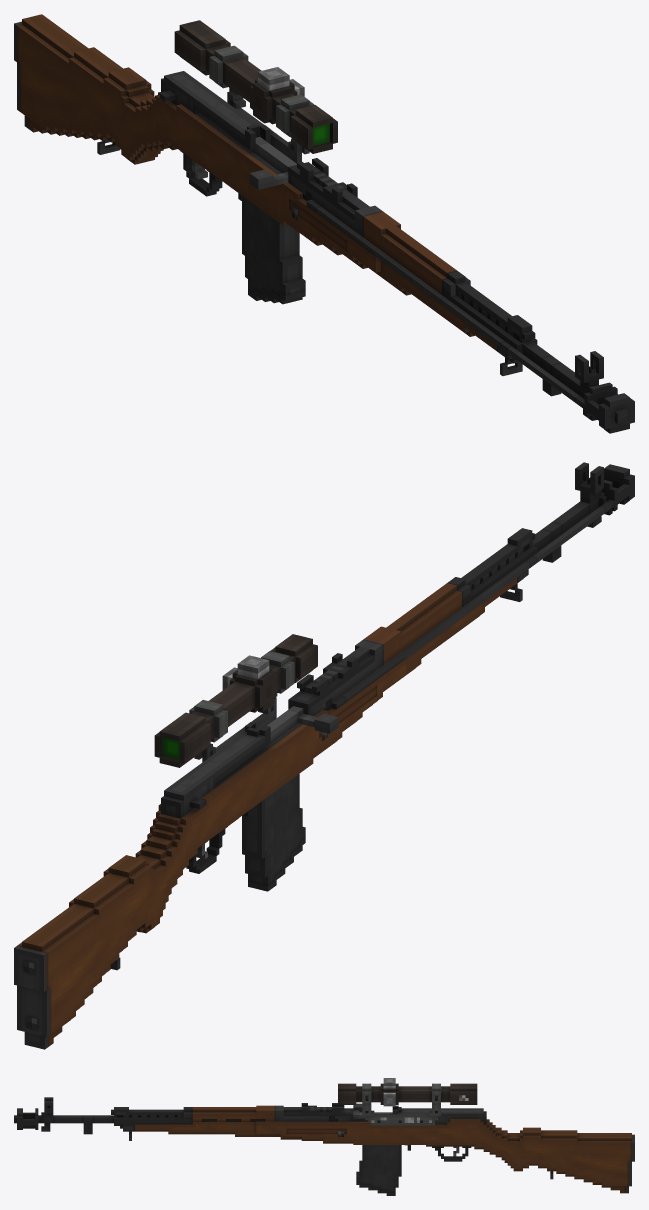
Rendered from RD_AVS36.glb.
3 renders of one model, top to bottom at view 1: azimuth 30°, elevation 25°; view 2: azimuth 150°, elevation 25°; view 3: azimuth 270°, elevation 25°, orthographic. The views are drawn at different scales.
Visible parts, largest first — view 1: AVS36, AVS36_SCOPE, AVS36_CLIP, AVS36_BOLT; view 2: AVS36, AVS36_SCOPE, AVS36_CLIP, AVS36_BOLT; view 3: AVS36, AVS36_SCOPE, AVS36_CLIP.
Boxes of the visible parts, bbox=[...] form: AVS36: bbox=[14, 14, 634, 433]; AVS36_SCOPE: bbox=[174, 20, 337, 163]; AVS36_CLIP: bbox=[242, 196, 305, 304]; AVS36_BOLT: bbox=[230, 135, 296, 189]; AVS36: bbox=[14, 462, 634, 1049]; AVS36_SCOPE: bbox=[154, 634, 317, 767]; AVS36_CLIP: bbox=[242, 774, 305, 891]; AVS36_BOLT: bbox=[240, 706, 338, 764]; AVS36: bbox=[14, 1097, 634, 1193]; AVS36_SCOPE: bbox=[338, 1078, 477, 1125]; AVS36_CLIP: bbox=[356, 1145, 401, 1195].
Bounding box in the file's own units: 0.1476 × 0.4134 × 2.02.
Materials: 1 (1 with a texture image).
